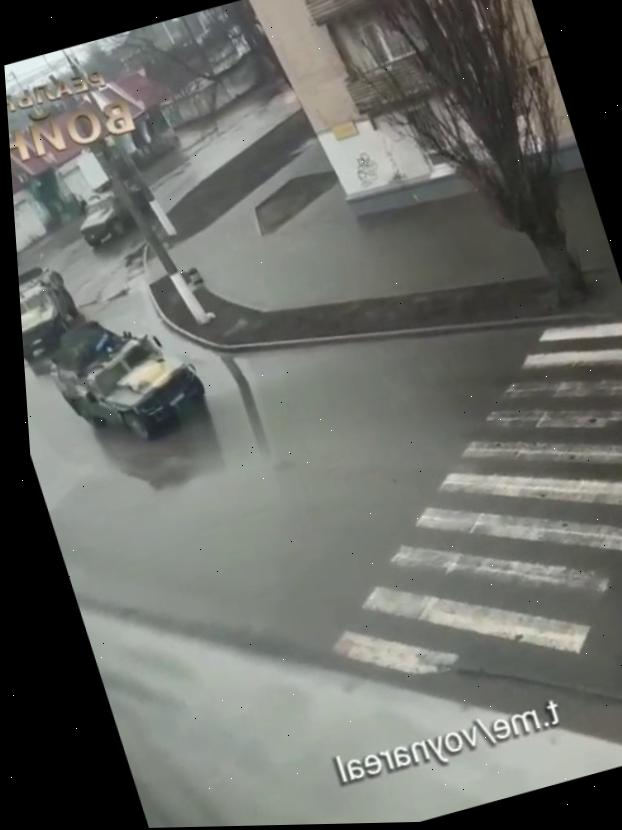armored_car: (34, 295, 217, 459), (17, 259, 89, 364), (69, 177, 159, 249)
